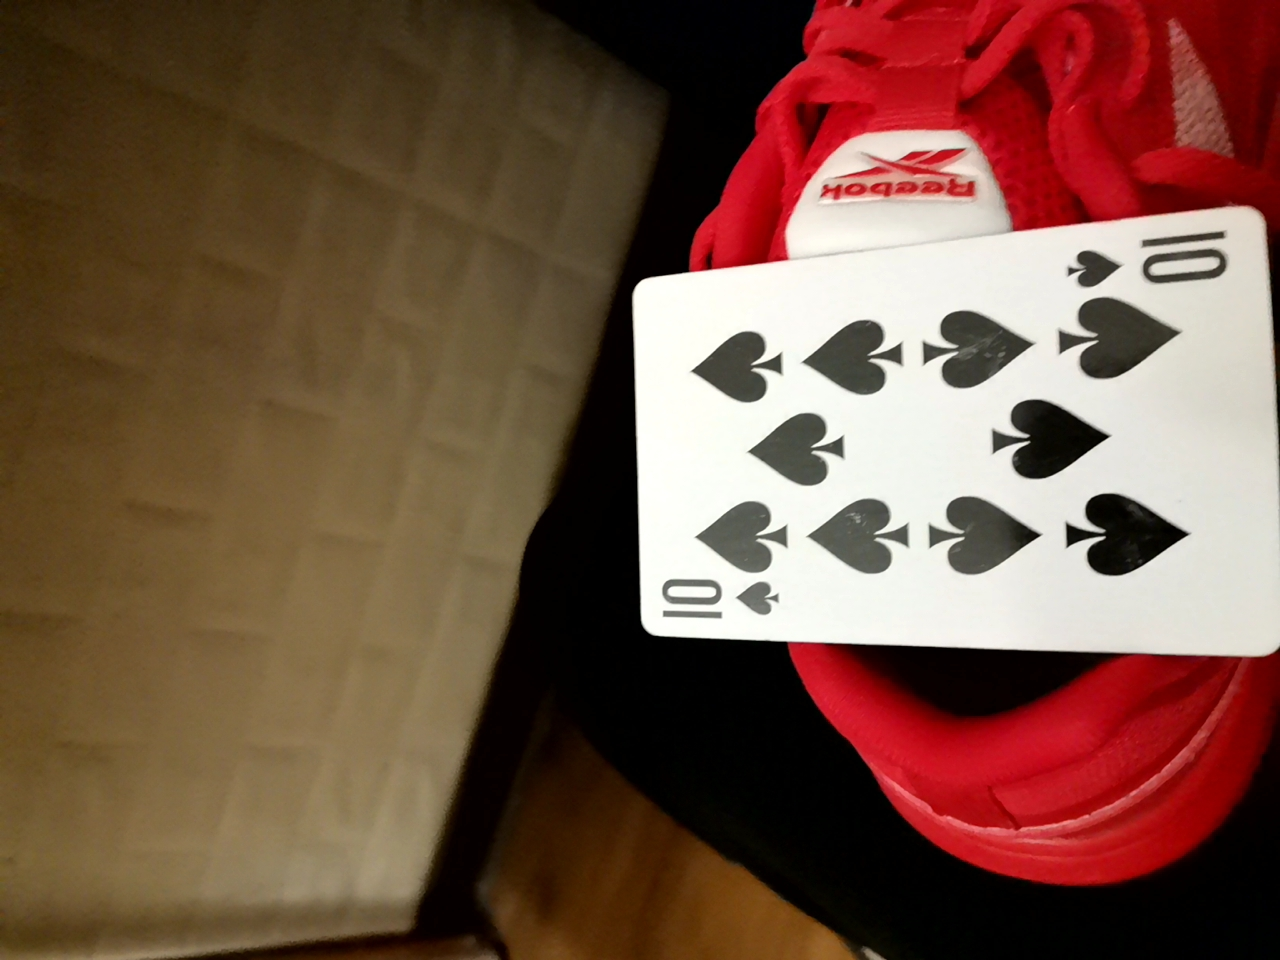ht 10: (570, 216, 1231, 646)
